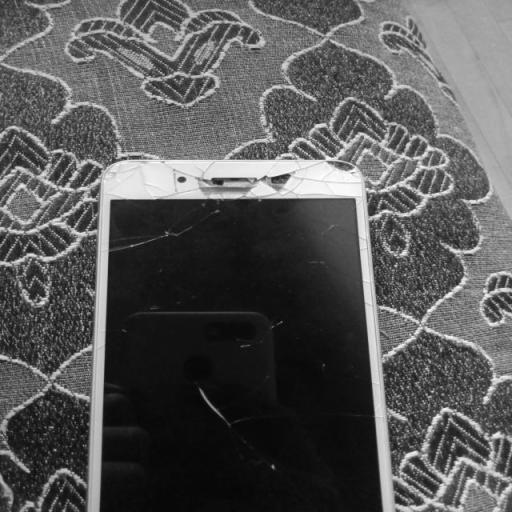phone: (88, 163, 397, 512)
